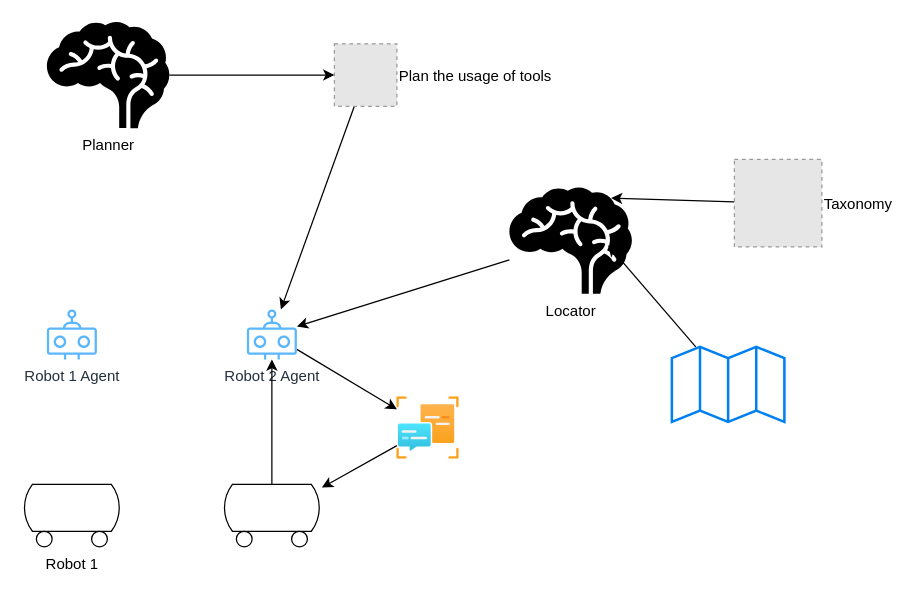
Image size: 915x594. Some labels were removed from this diagram. Grey dashed boxes stand in for pictures. The box of each missing label's shape, as (x1, y1, x2, y2) in pixels:
Domain Specifc Language: (396, 396, 459, 459)
Location: (670, 345, 785, 422)
Robot 2: (221, 483, 322, 547)
